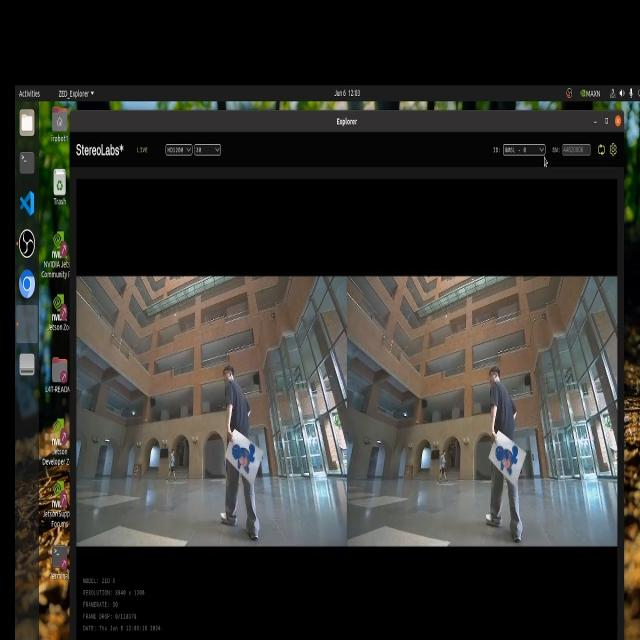blue: (228, 433, 256, 477), (497, 436, 519, 478)
